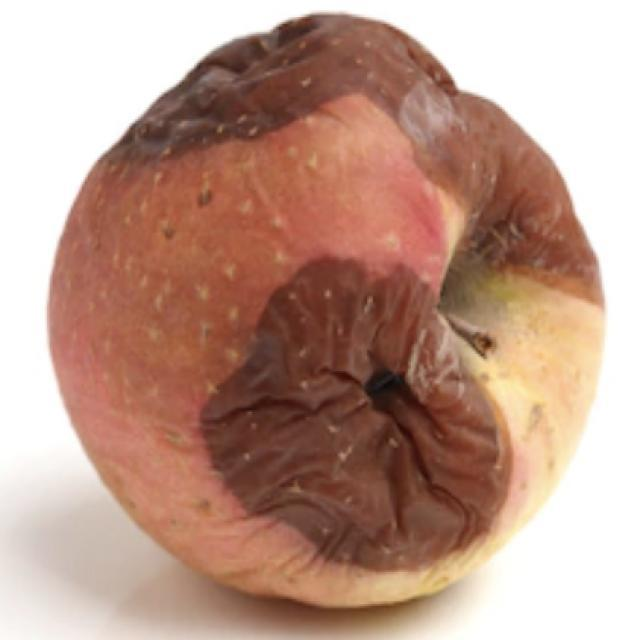Rotten: (99, 20, 618, 610)
